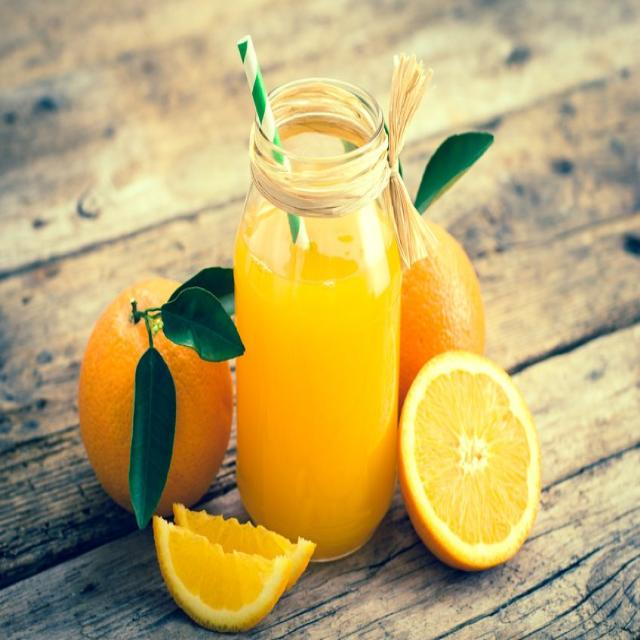Orange: (66, 249, 250, 548), (390, 333, 548, 582)
